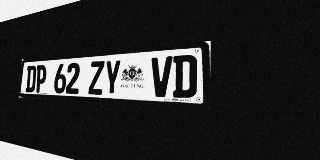2: (66, 62, 80, 94)
6: (54, 63, 67, 94)
D: (172, 54, 197, 98), (25, 65, 37, 92)
P: (35, 65, 47, 93)
V: (150, 56, 173, 97)
Y: (103, 60, 121, 95)
Z: (88, 61, 105, 95)
